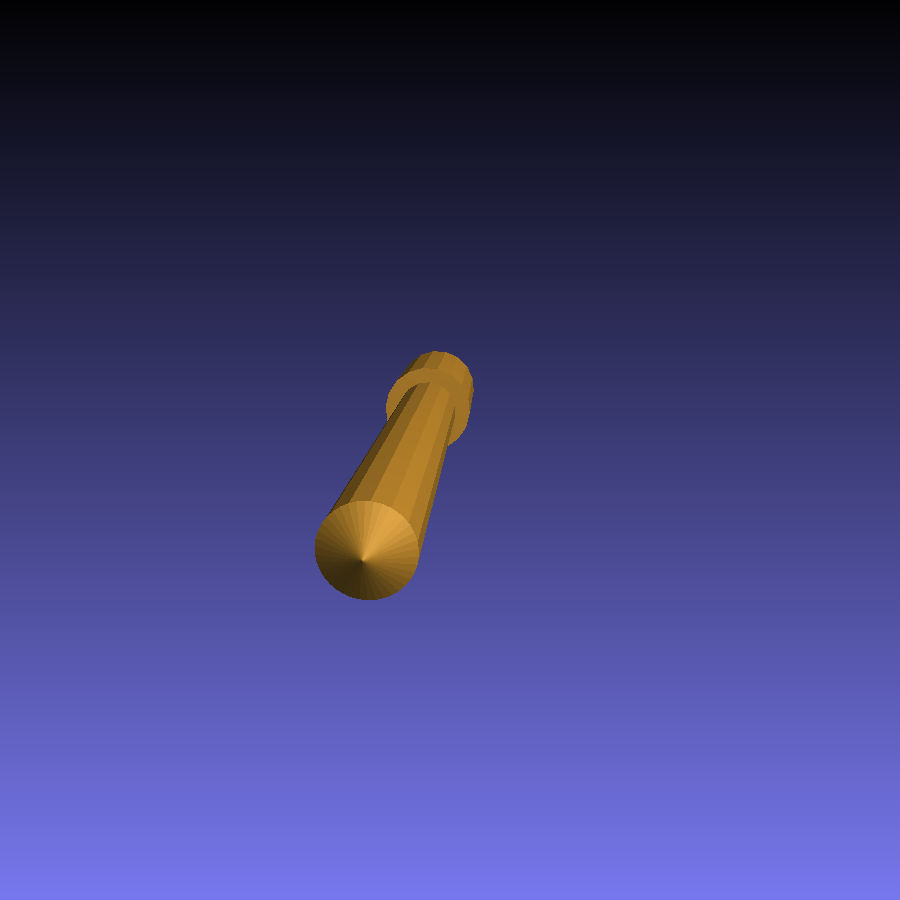cargo_g: (314, 350, 476, 600)
